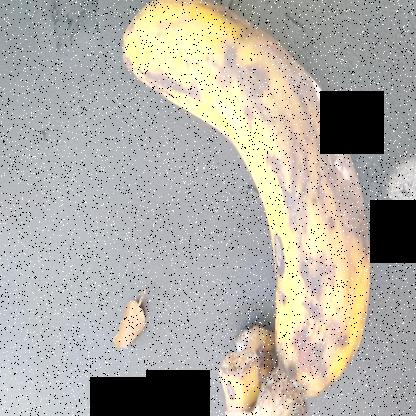overripe: (104, 1, 350, 403)
rotten: (191, 1, 385, 263)
